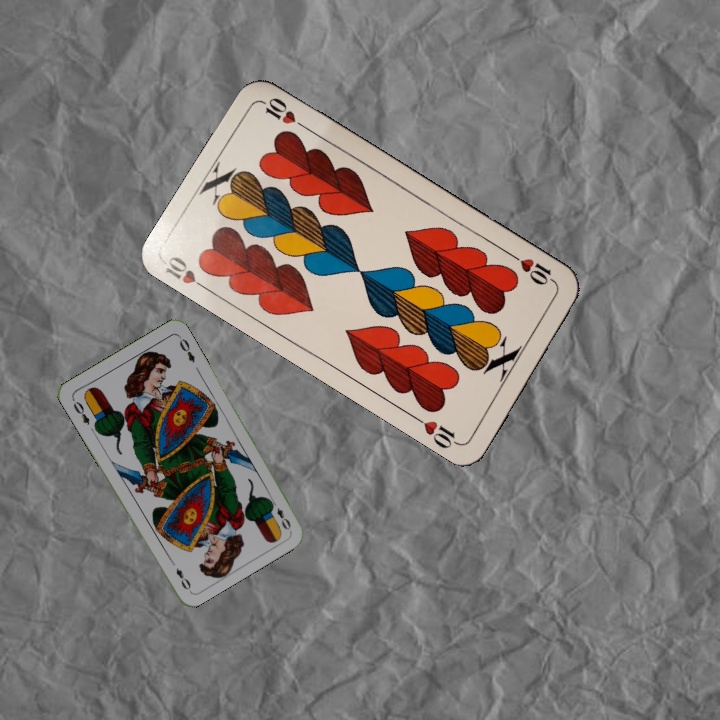EO: (267, 496, 293, 533), (68, 395, 92, 428)
H10: (160, 252, 213, 295), (507, 250, 560, 288)
